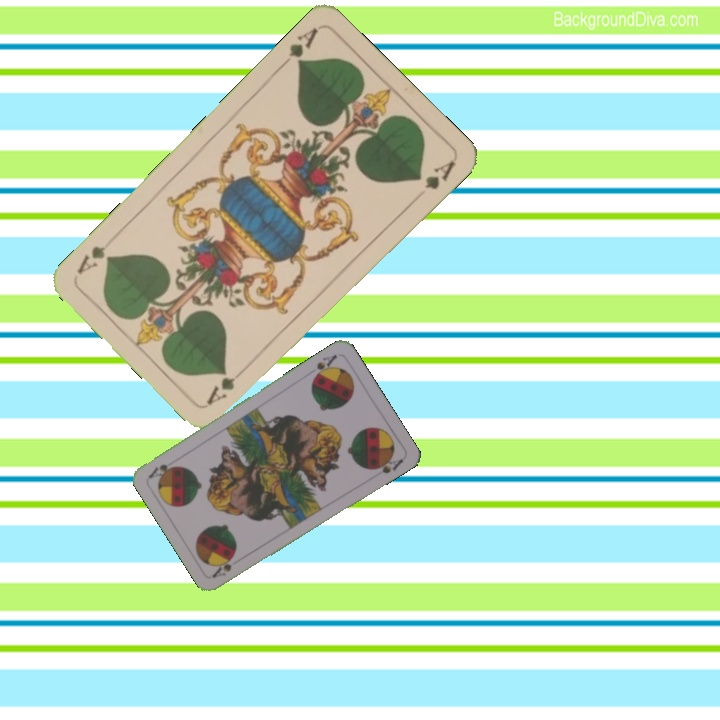GA: (275, 22, 321, 71), (202, 364, 250, 408)
SA: (308, 350, 340, 383), (208, 553, 236, 580)
